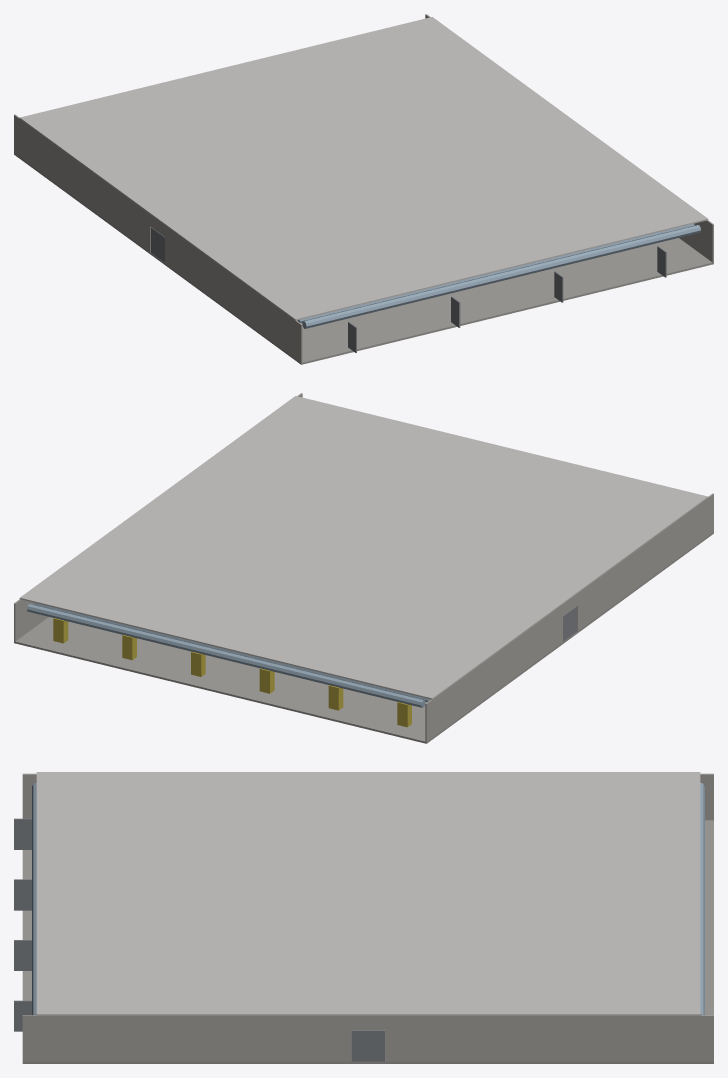
Rendered from xuanshu_interior_C62.glb.
3 views of the same model, one above another, from view 1: azimuth 30°, elevation 25°; view 2: azimuth 150°, elevation 25°; view 3: azimuth 270°, elevation 25° (orthographic). The views are drawn at different scales.
Parts seen in each view (by area): view 1: UNIT-HIB-001_S0; view 2: UNIT-HIB-001_S0; view 3: UNIT-HIB-001_S0.
Boxes of the visible parts, left/top/right/bottom form: UNIT-HIB-001_S0: left=14, top=14, right=713, bottom=364; UNIT-HIB-001_S0: left=14, top=393, right=713, bottom=743; UNIT-HIB-001_S0: left=14, top=772, right=713, bottom=1063.
Size of the model in its own units: 36.43 by 3.49 by 44.48.
